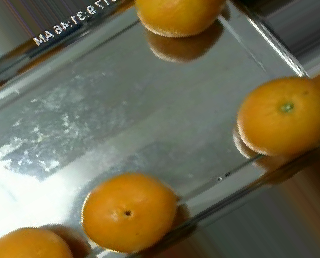Orange: (80, 171, 177, 252), (236, 75, 320, 157)
